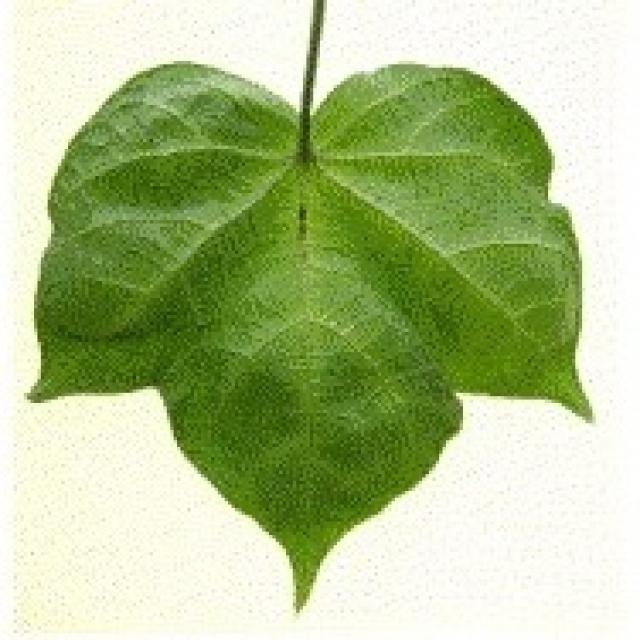Leaf Curl Virus: (135, 106, 505, 422)
